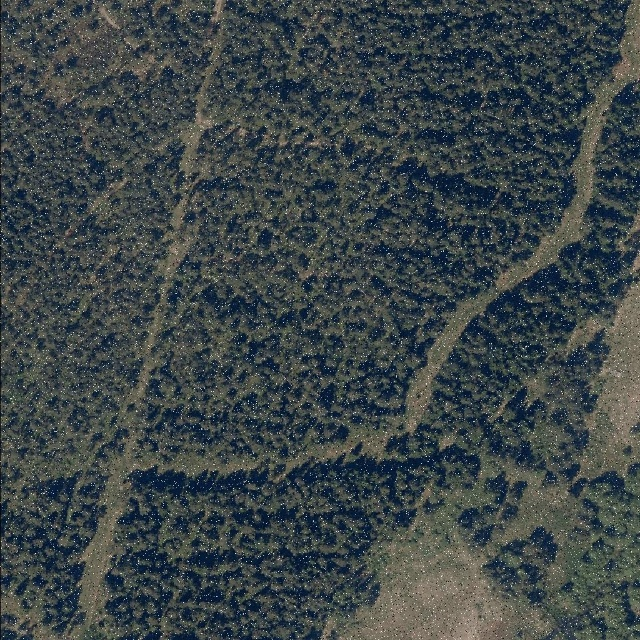vegetation: (82, 72, 640, 640), (132, 0, 638, 462)
